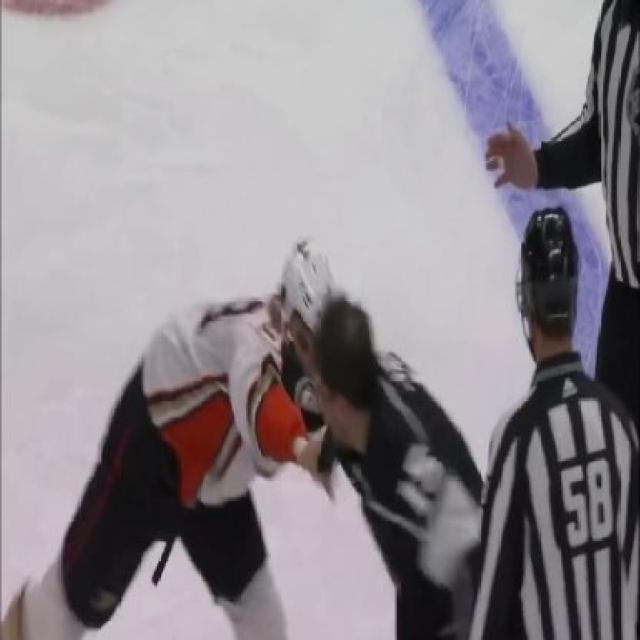fight: (0, 235, 488, 638)
non-fight: (408, 183, 638, 639)
